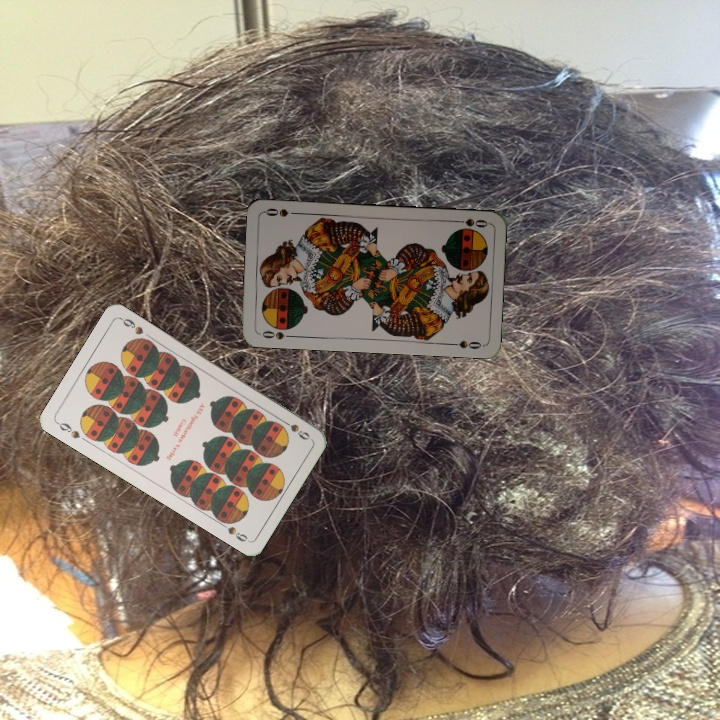S9: (276, 415, 312, 443), (53, 418, 83, 441)
SO: (450, 214, 490, 230), (256, 327, 296, 342)
